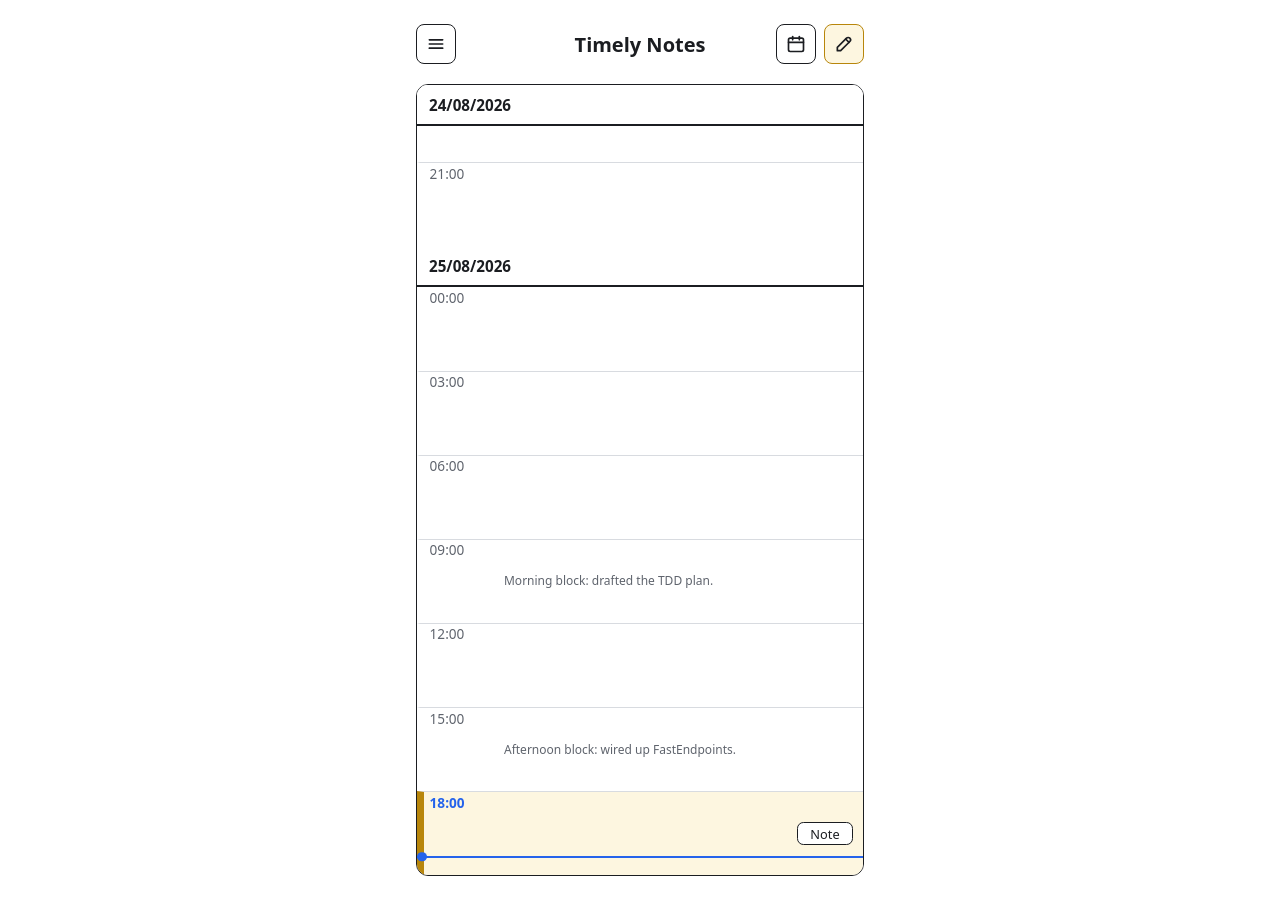
Scenario: App › fetches the default schedule on mount
(page scrolled)
Click the button named "Menu". click: {"x": 436, "y": 44}
box: [416,24,456,64]
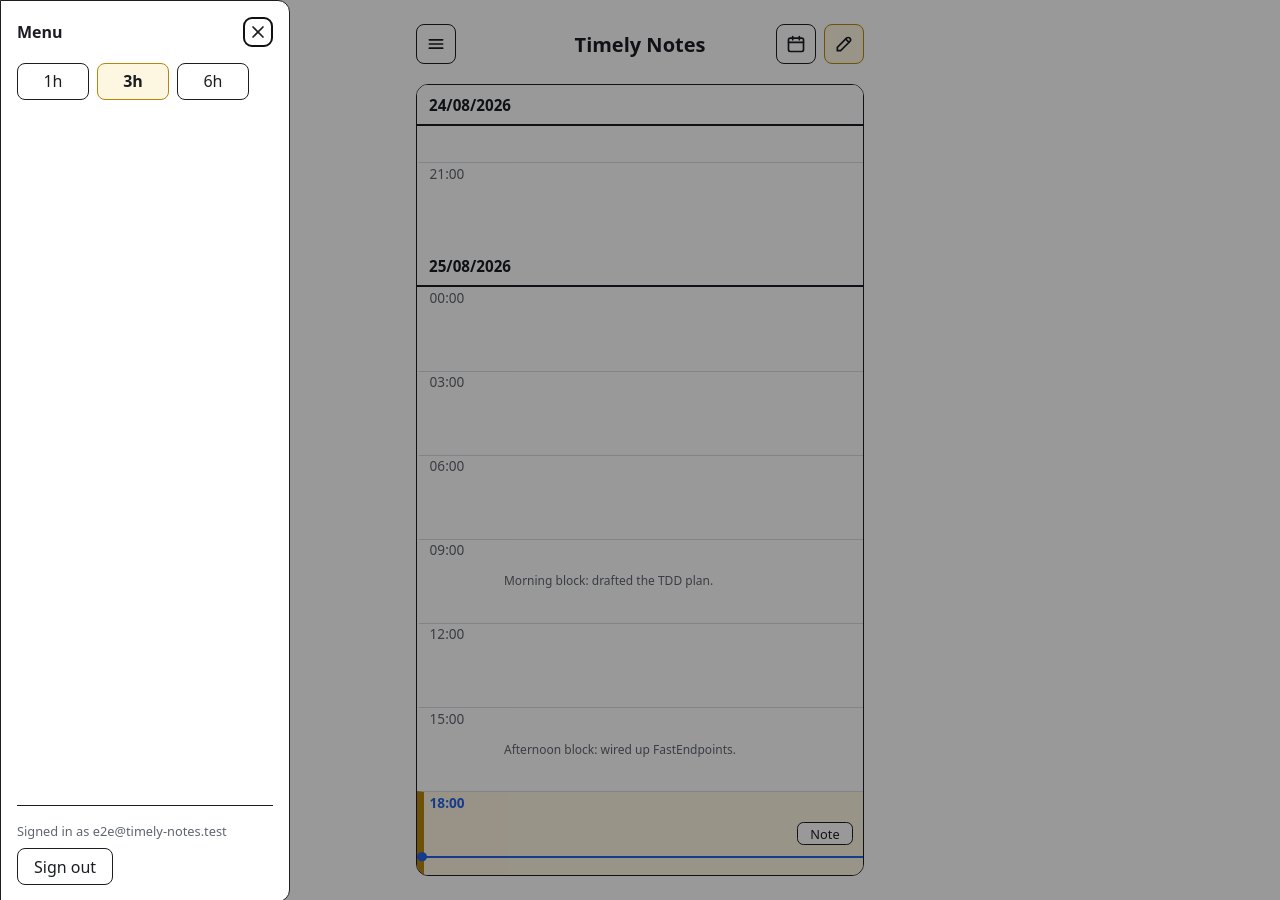
Check: the button "3h" is shown, box [97,63,169,100]
